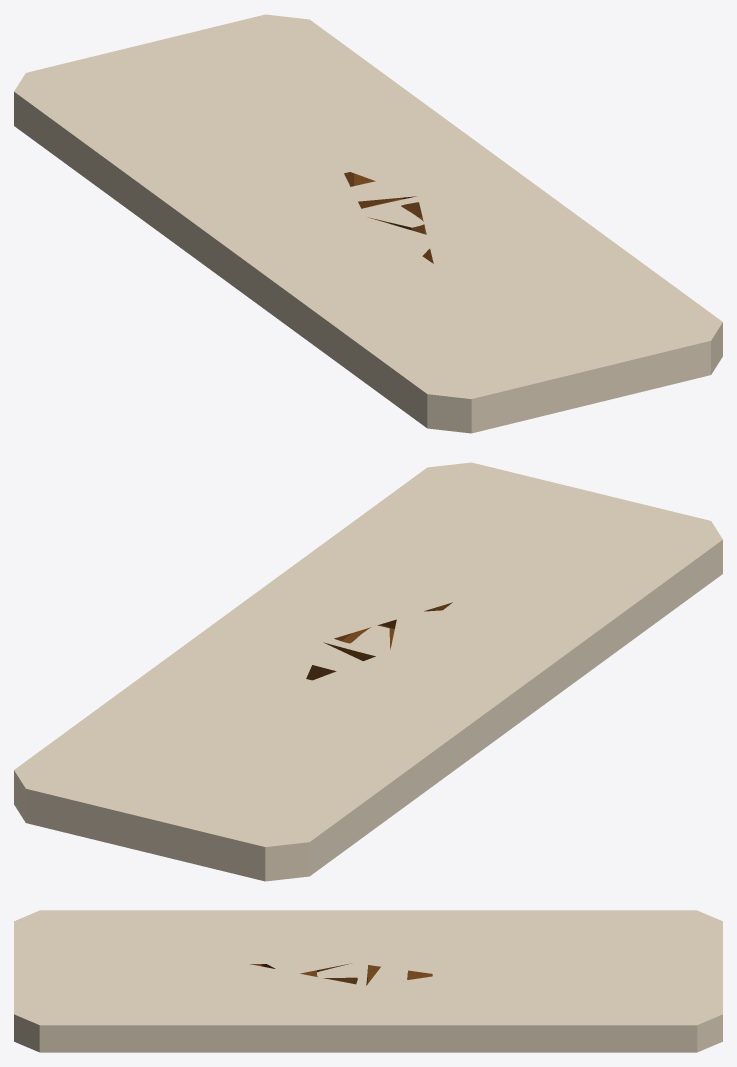
The model's file is Name_Posseidon.fbx.
3 views of the same model, one above another, from view 1: azimuth 30°, elevation 25°; view 2: azimuth 150°, elevation 25°; view 3: azimuth 270°, elevation 25° (orthographic). The views are drawn at different scales.
Visible parts, largest first — view 1: Cube.005; view 2: Cube.005; view 3: Cube.005.
Part boxes in pixels (x1,y1,x2,y2): Cube.005: [14, 14, 722, 433]; Cube.005: [14, 462, 722, 881]; Cube.005: [14, 910, 722, 1052].
Size of the model in its own units: 36.91 by 4.1 by 96.36.
